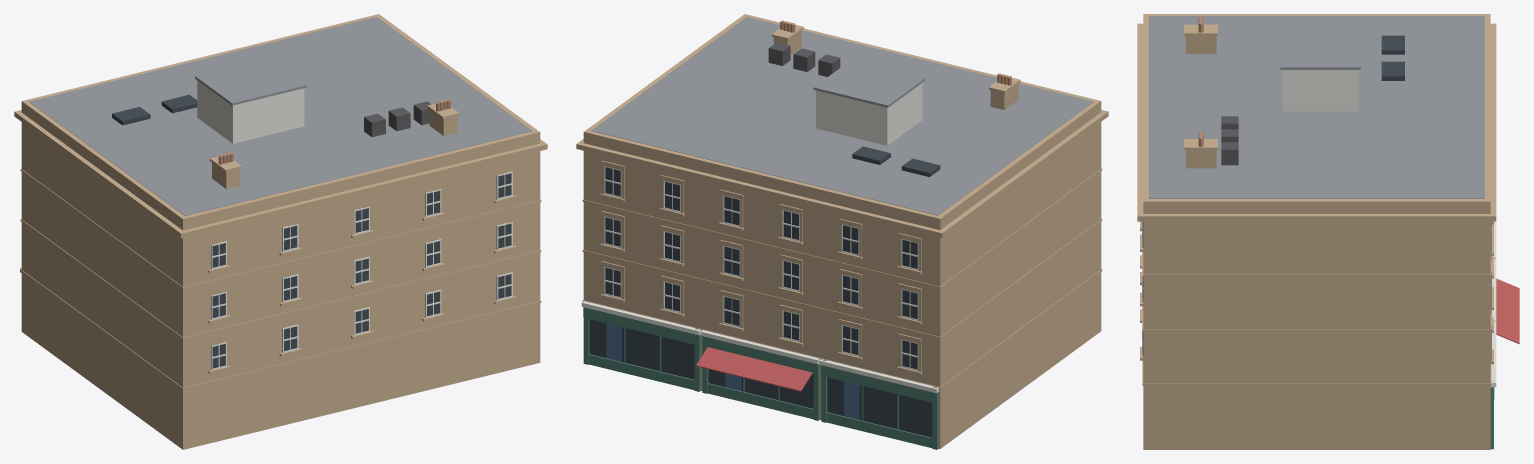
File: shopflats4.glb
3 views of the same model, side by side, from view 1: azimuth 30°, elevation 25°; view 2: azimuth 150°, elevation 25°; view 3: azimuth 270°, elevation 25° (orthographic). The views are drawn at different scales.
Visible parts, largest first — view 1: shopflats4; view 2: shopflats4; view 3: shopflats4.
Boxes of the visible parts, x1,y1,x2,y2 form: shopflats4: [14, 14, 547, 449]; shopflats4: [576, 14, 1108, 449]; shopflats4: [1137, 14, 1519, 449].
Bounding box in the file's own units: 23.6 × 16.77 × 19.8.
